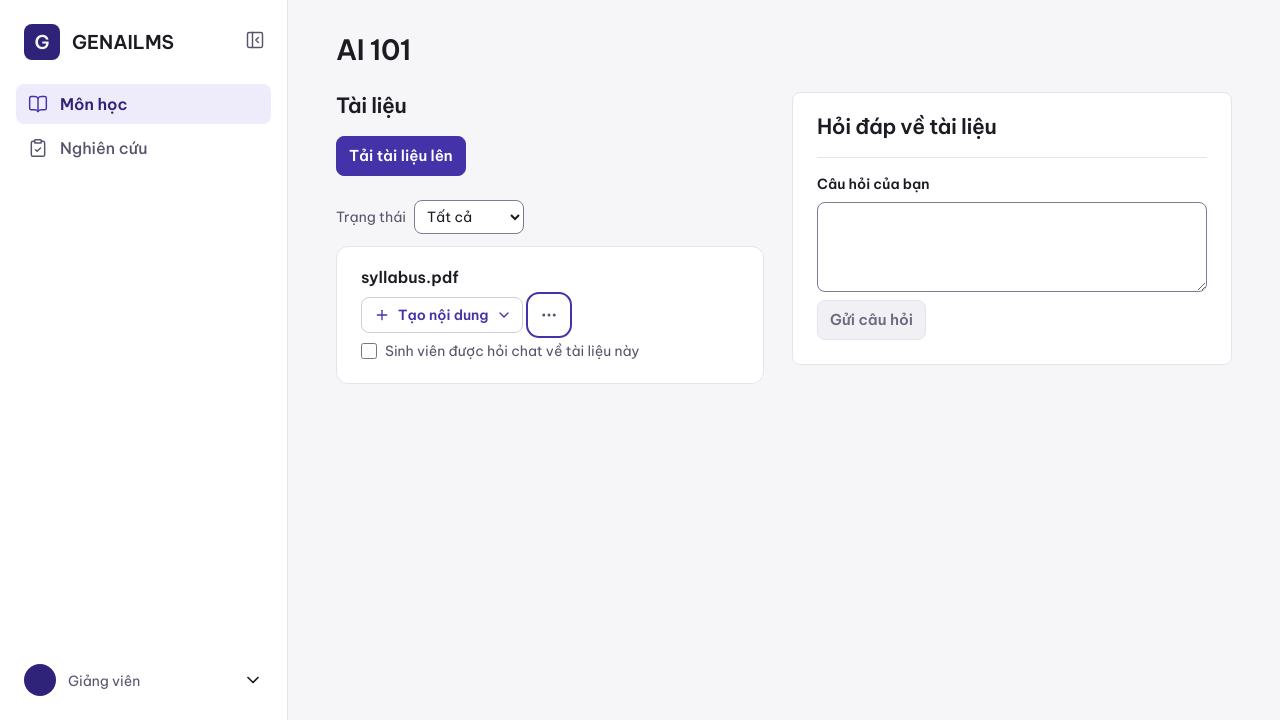
CourseDetailPage - delete document › says the document is deleted, and only the reload failed, when the list cannot be reloaded afterwards
Press Enter
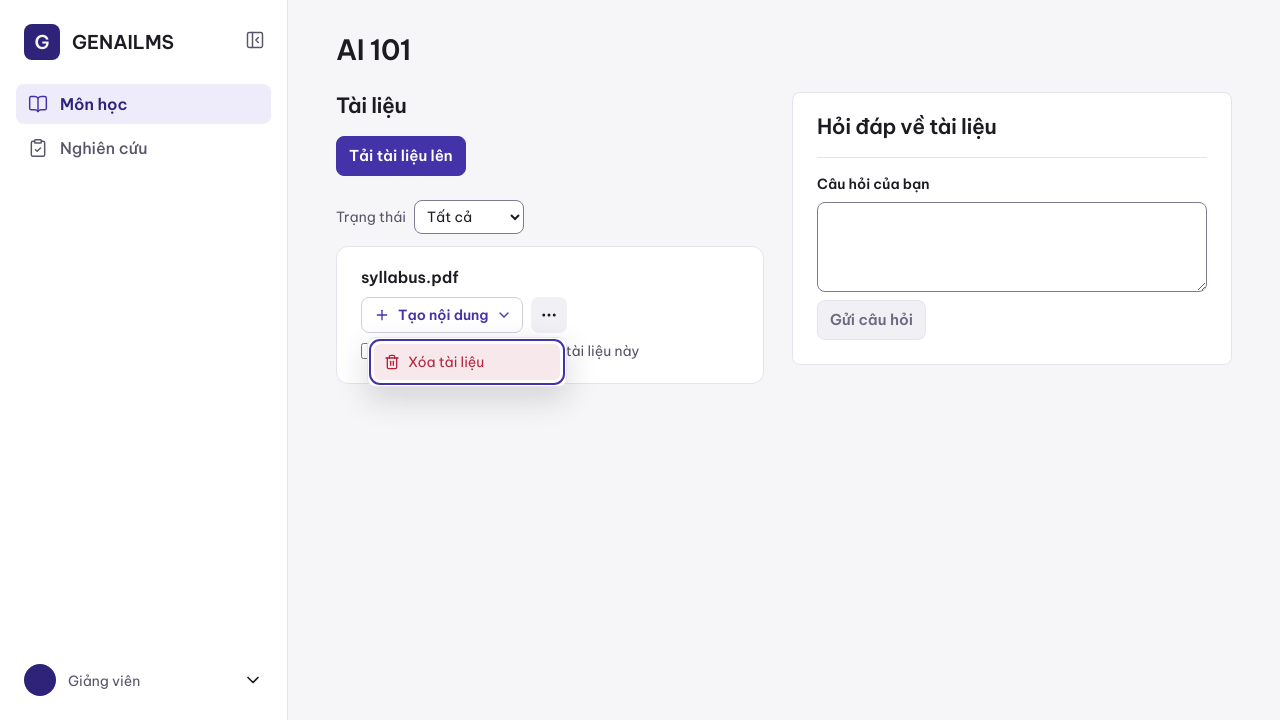
Click the menu item "Xóa tài liệu" at (467, 362), box [374, 344, 560, 380]
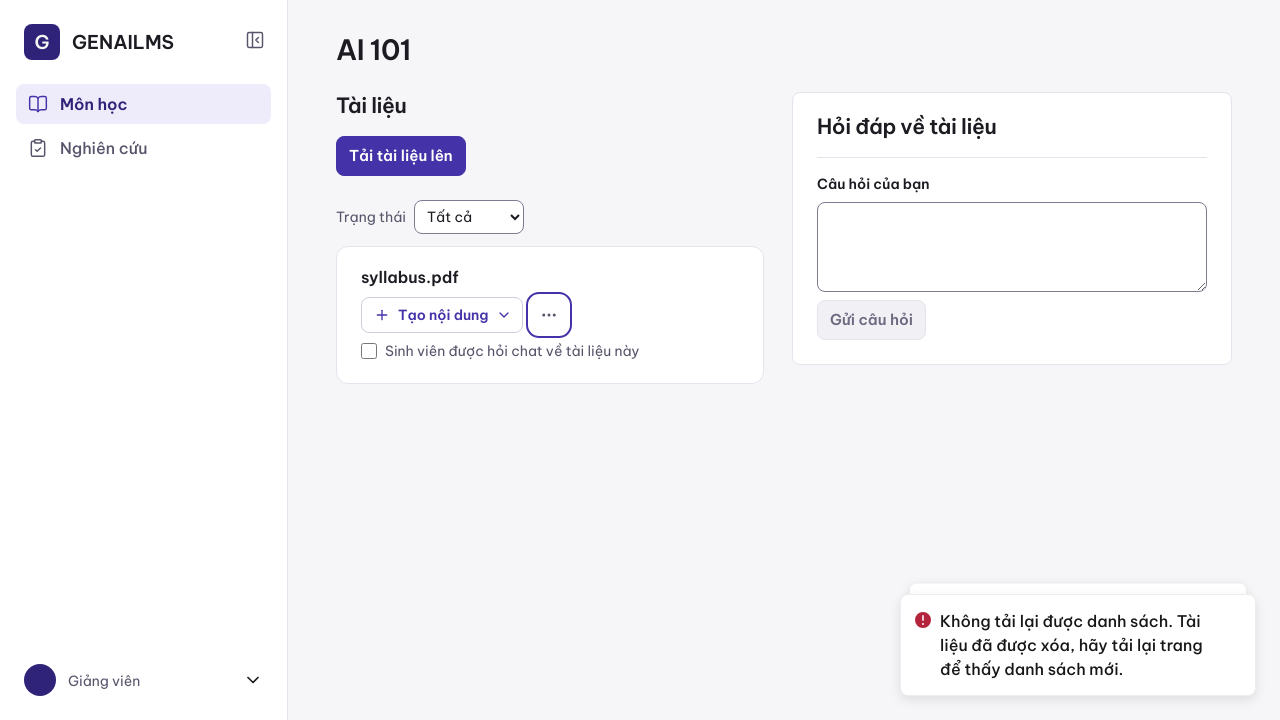
Check: the text "Tài liệu đã được xóa" is shown, box [940, 611, 1203, 679]
